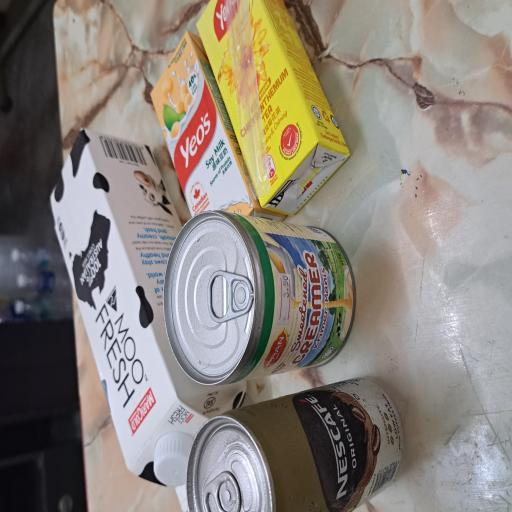can: (97, 219, 226, 474), (0, 248, 101, 512)
drink carton: (2, 67, 288, 325), (222, 263, 384, 468), (222, 200, 363, 341)
plastic bottle cap: (18, 198, 60, 260)
pop tab: (142, 275, 182, 337), (0, 265, 32, 324)
